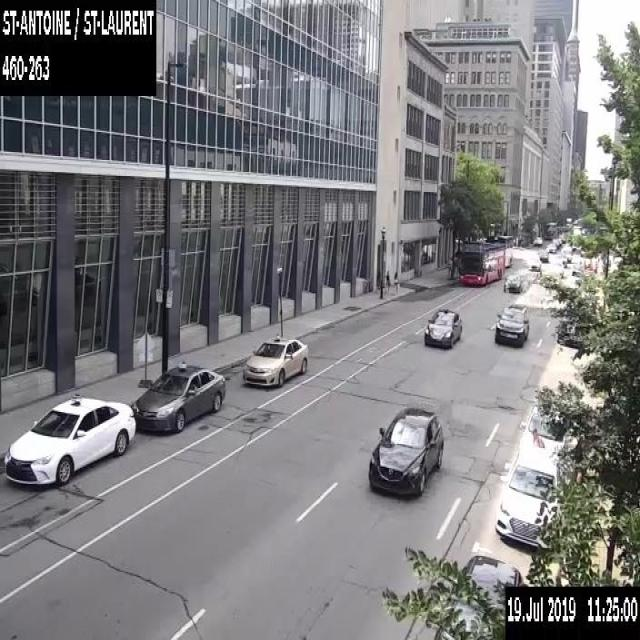bus: (458, 240, 503, 284), (486, 235, 512, 268)
construction: (134, 329, 156, 386), (583, 260, 597, 272)
pedestrian: (384, 266, 391, 296), (392, 269, 400, 295)
vehicle: (2, 393, 136, 484), (433, 554, 523, 638), (494, 446, 570, 540), (367, 406, 443, 498), (130, 360, 225, 430), (242, 334, 307, 389), (519, 404, 568, 459), (423, 307, 461, 349), (494, 304, 529, 348), (503, 272, 523, 292), (561, 245, 572, 260), (556, 251, 567, 266), (538, 248, 549, 260), (552, 262, 562, 275), (529, 259, 540, 269), (546, 242, 556, 252), (533, 235, 542, 245), (551, 237, 559, 247), (556, 236, 561, 244)
